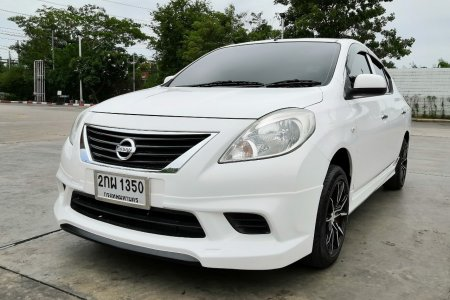sedan: (52, 35, 413, 271)
